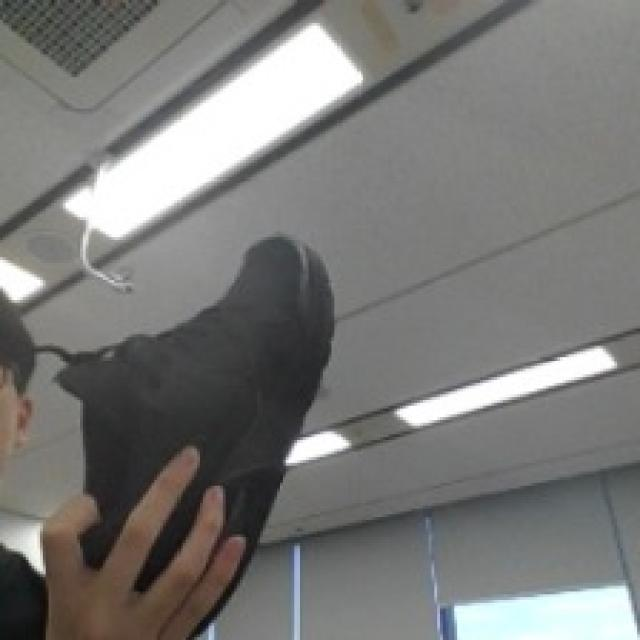shoe: (66, 234, 333, 627)
